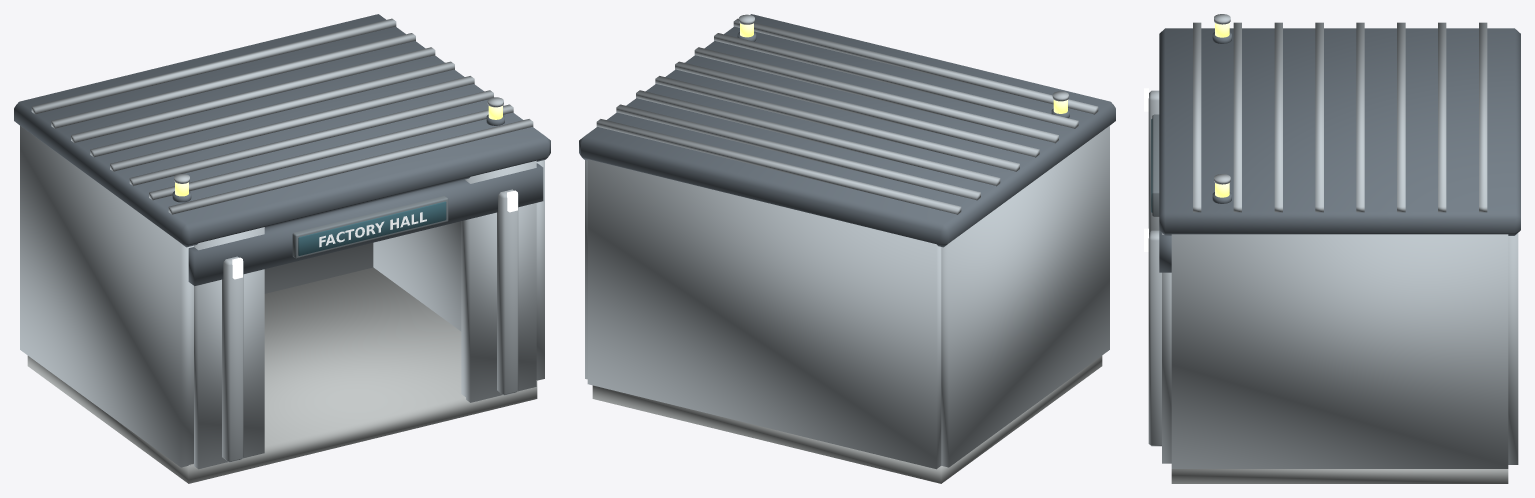
The model's file is factory_hall_enhanced.glb.
The picture shows the model from 3 angles, left to right: view 1: azimuth 30°, elevation 25°; view 2: azimuth 150°, elevation 25°; view 3: azimuth 270°, elevation 25°; orthographic projection. The views are drawn at different scales.
Parts seen in each view (by area): view 1: Wall_steel_legacy_1, Roof_dark_legacy_2, Foundation_concrete_legacy_0, RoofRib_steel_legacy_12, FrontFrame_steel_legacy_3, Header_dark_legacy_4, PortalTrim_steel_legacy_14, SignPlate_glass, ScreenMount_frame, TypeLabel_white; view 2: Wall_steel_legacy_1, Roof_dark_legacy_2, RoofRib_steel_legacy_12, Foundation_concrete_legacy_0; view 3: Wall_steel_legacy_1, Roof_dark_legacy_2, RoofRib_steel_legacy_12, Foundation_concrete_legacy_0, PortalTrim_steel_legacy_14, FrontFrame_steel_legacy_3, ScreenMount_frame, Header_dark_legacy_4, StatusLight_warn_legacy_10.
Boxes of the visible parts, x1,y1,x2,y2 form: Wall_steel_legacy_1: (20, 125, 544, 467); Roof_dark_legacy_2: (14, 14, 550, 247); Foundation_concrete_legacy_0: (27, 267, 537, 483); RoofRib_steel_legacy_12: (31, 18, 533, 214); FrontFrame_steel_legacy_3: (194, 160, 536, 469); Header_dark_legacy_4: (188, 163, 543, 285); PortalTrim_steel_legacy_14: (222, 189, 518, 462); SignPlate_glass: (298, 201, 446, 255); ScreenMount_frame: (292, 196, 448, 258); TypeLabel_white: (319, 212, 426, 247); Wall_steel_legacy_1: (585, 125, 1109, 469); Roof_dark_legacy_2: (579, 14, 1115, 247); RoofRib_steel_legacy_12: (596, 18, 1098, 214); Foundation_concrete_legacy_0: (592, 356, 1102, 483); Wall_steel_legacy_1: (1171, 233, 1518, 468); Roof_dark_legacy_2: (1159, 28, 1520, 235); RoofRib_steel_legacy_12: (1193, 22, 1487, 212); Foundation_concrete_legacy_0: (1171, 469, 1508, 483); PortalTrim_steel_legacy_14: (1148, 90, 1161, 446); FrontFrame_steel_legacy_3: (1162, 233, 1171, 463); ScreenMount_frame: (1152, 114, 1159, 216); Header_dark_legacy_4: (1159, 230, 1171, 272); StatusLight_warn_legacy_10: (1215, 23, 1229, 197).
Size of the model in its own units: 5.3 by 3.9 by 4.48.
